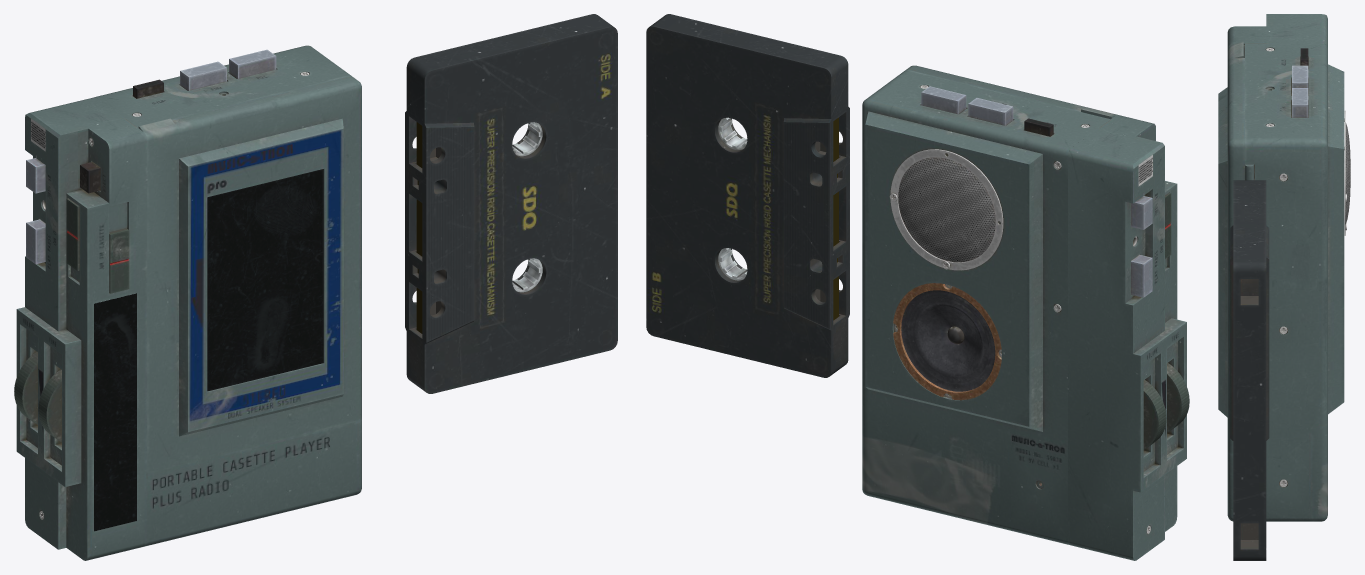
Rendered from CassettePlayer.glb.
The picture shows the model from 3 angles, left to right: view 1: azimuth 30°, elevation 25°; view 2: azimuth 150°, elevation 25°; view 3: azimuth 270°, elevation 25°; orthographic projection. The views are drawn at different scales.
Parts seen in each view (by area): view 1: portable_cassette_player_lid, portable_cassette_player_casette, portable_cassette_player, radio_switch, volume_rotate, tune_rotate, mic_button, fastfwd_button, onoff_switch, eject_button; view 2: portable_cassette_player, portable_cassette_player_casette, portable_cassette_player_lid, volume_rotate, tune_rotate, fastfwd_button, mic_button, eject_button; view 3: portable_cassette_player, portable_cassette_player_casette, portable_cassette_player_lid, mic_button, fastfwd_button.
Part boxes in pixels (box(x1,y1,x2,y2)): portable_cassette_player_lid: box(138, 76, 361, 472); portable_cassette_player_casette: box(405, 14, 617, 393); portable_cassette_player: box(16, 45, 361, 560); radio_switch: box(109, 228, 129, 293); volume_rotate: box(14, 352, 37, 424); tune_rotate: box(38, 369, 61, 442); mic_button: box(229, 49, 276, 78); fastfwd_button: box(180, 61, 226, 90); onoff_switch: box(66, 198, 79, 270); eject_button: box(26, 219, 45, 264); portable_cassette_player: box(862, 70, 1186, 560); portable_cassette_player_casette: box(646, 14, 849, 377); portable_cassette_player_lid: box(906, 65, 1117, 119); volume_rotate: box(1143, 380, 1166, 449); tune_rotate: box(1167, 363, 1189, 432); fastfwd_button: box(968, 98, 1013, 125); mic_button: box(921, 86, 966, 114); eject_button: box(1131, 254, 1152, 297); portable_cassette_player: box(1227, 14, 1350, 521); portable_cassette_player_casette: box(1230, 180, 1269, 560); portable_cassette_player_lid: box(1218, 41, 1253, 453); mic_button: box(1292, 88, 1308, 117); fastfwd_button: box(1292, 65, 1308, 87).
Size of the model in its own units: 0.1789 by 0.1303 by 0.0397.
2 materials, 2 textured.
